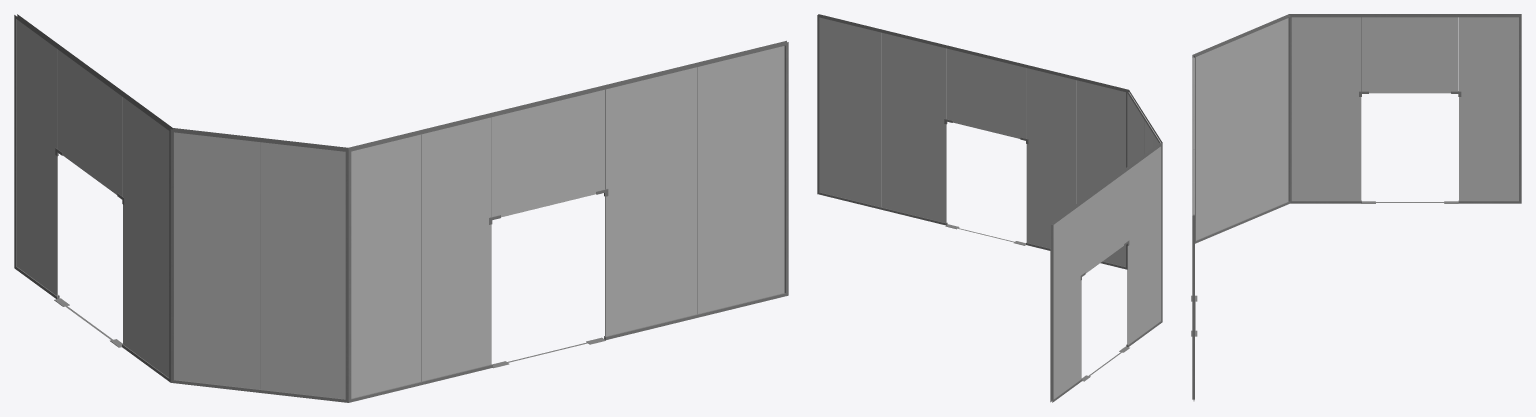
Rendered from SM_StoreFront_Glass_700x1000.fbx.
3 renders of one model, left to right at view 1: azimuth 30°, elevation 25°; view 2: azimuth 150°, elevation 25°; view 3: azimuth 270°, elevation 25°, orthographic. The views are drawn at different scales.
Parts seen in each view (by area): view 1: SM_StoreFront_Glass_700x1000_LOD0; view 2: SM_StoreFront_Glass_700x1000_LOD0; view 3: SM_StoreFront_Glass_700x1000_LOD0.
Boxes of the visible parts, left/top/right/bottom form: SM_StoreFront_Glass_700x1000_LOD0: left=14, top=14, right=788, bottom=402; SM_StoreFront_Glass_700x1000_LOD0: left=817, top=14, right=1162, bottom=402; SM_StoreFront_Glass_700x1000_LOD0: left=1191, top=14, right=1521, bottom=401.
Size of the model in its own units: 985 by 682 by 430.
